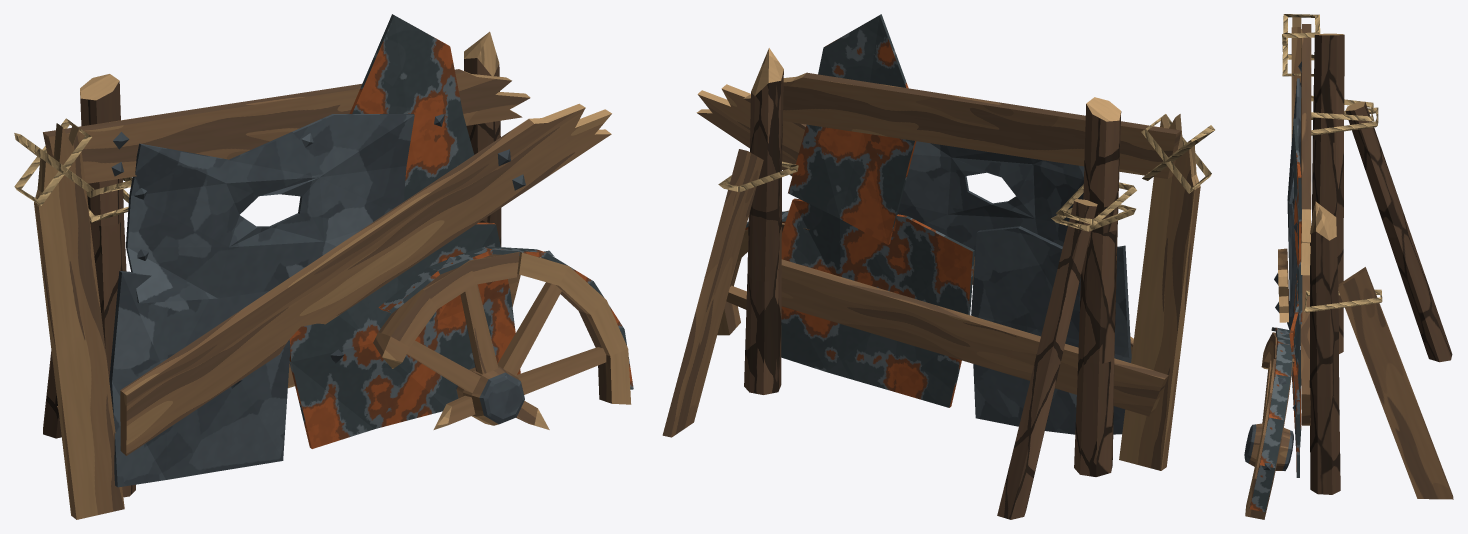
Rendered from SM_ScrapBarricade.fbx.
The picture shows the model from 3 angles, left to right: view 1: azimuth 30°, elevation 25°; view 2: azimuth 150°, elevation 25°; view 3: azimuth 270°, elevation 25°; orthographic projection. The views are drawn at different scales.
Parts seen in each view (by area): view 1: SM_ScrapBarricade; view 2: SM_ScrapBarricade; view 3: SM_ScrapBarricade.
Part boxes in pixels (x1,y1,x2,y2): SM_ScrapBarricade: (14, 14, 633, 519); SM_ScrapBarricade: (662, 14, 1214, 519); SM_ScrapBarricade: (1244, 14, 1453, 519).
Bounding box in the file's own units: 1.97 × 1.4 × 0.8055.
